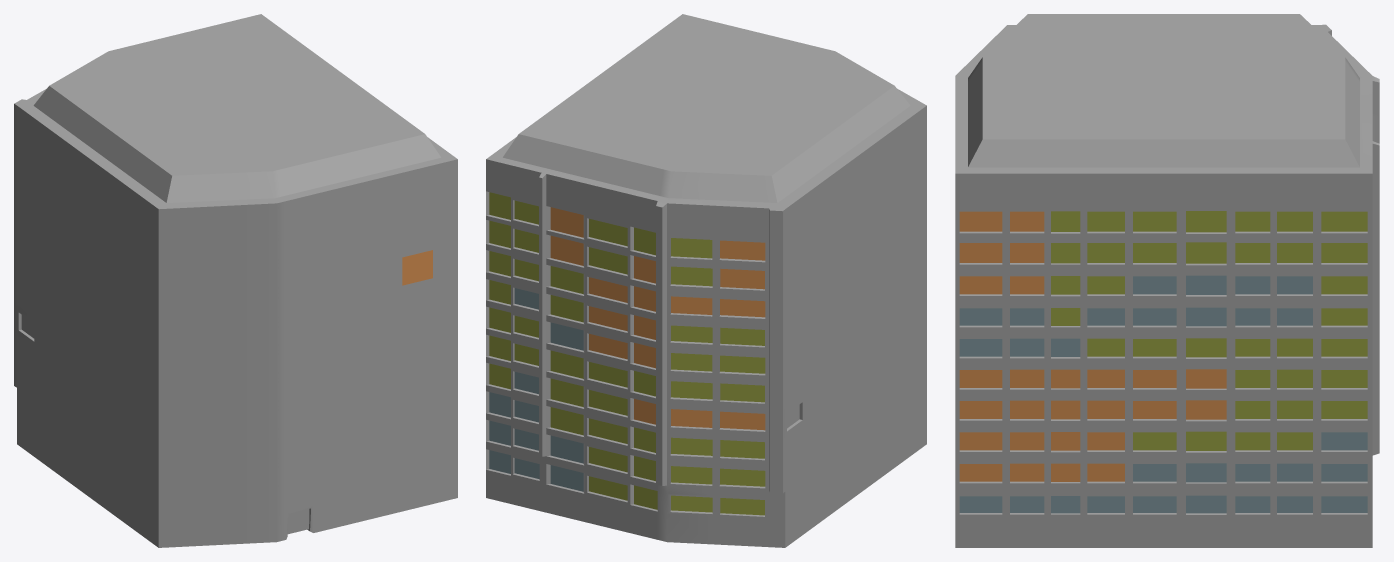
Rendered from BuildingA.fbx.
3 views of the same model, side by side, from view 1: azimuth 30°, elevation 25°; view 2: azimuth 150°, elevation 25°; view 3: azimuth 270°, elevation 25° (orthographic). The views are drawn at different scales.
Visible parts, largest first — view 1: BuildingA; view 2: BuildingA; view 3: BuildingA.
Boxes of the visible parts, <box> form: BuildingA: <box>14,14,457,547</box>; BuildingA: <box>486,14,926,547</box>; BuildingA: <box>955,14,1379,547</box>.
Bounding box in the file's own units: 18.35 × 22.87 × 22.12.
